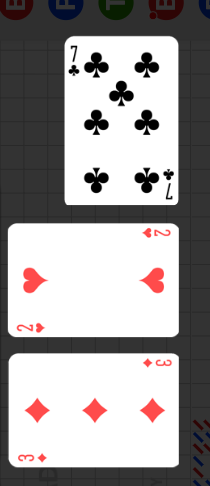2H: (16, 321, 47, 333)
7C: (161, 166, 176, 201), (67, 44, 82, 78)
